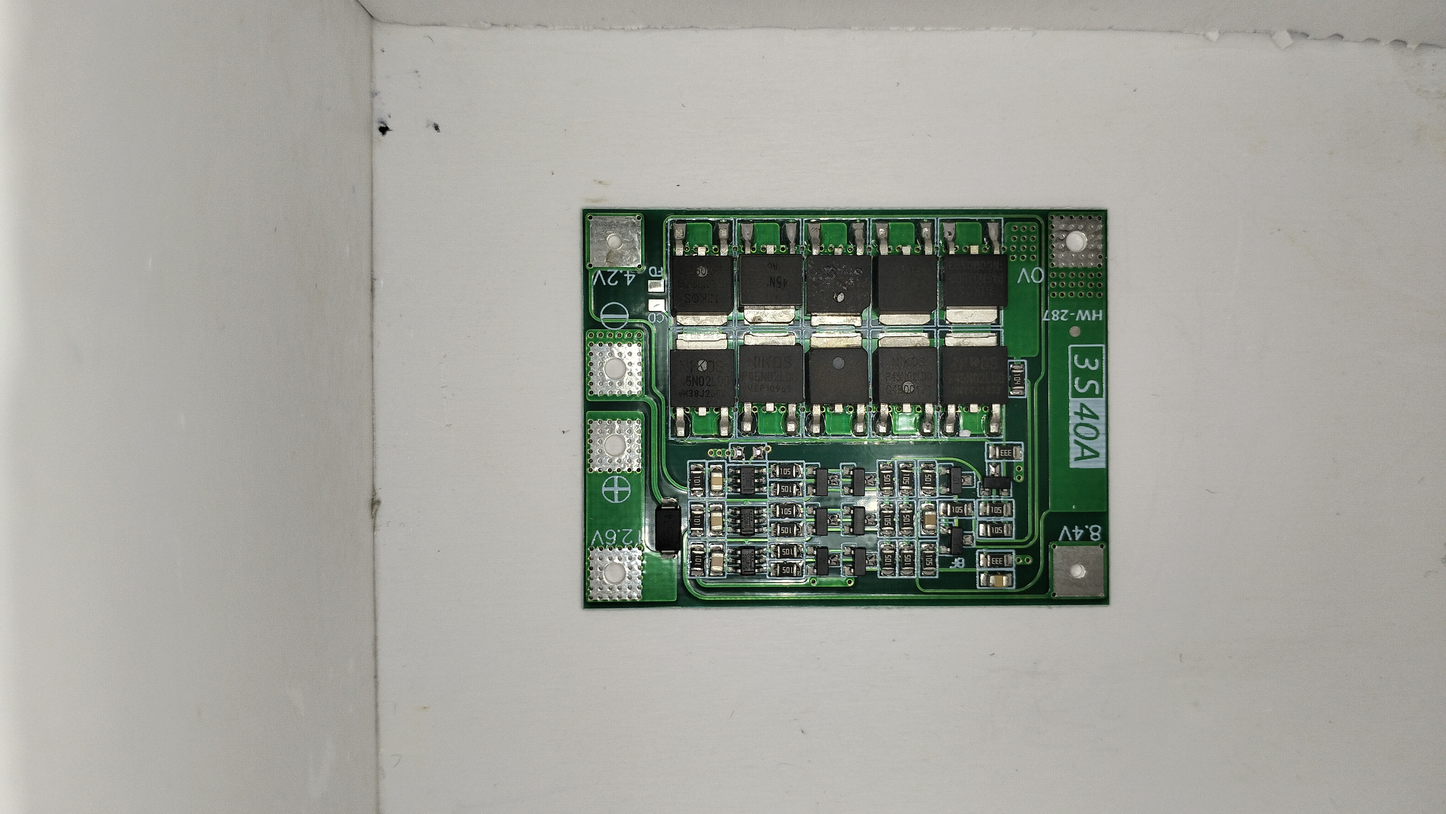C: (976, 569, 1016, 588), (707, 461, 726, 499), (919, 501, 938, 538), (708, 542, 726, 580), (708, 500, 726, 537)
R 105: (879, 542, 899, 578), (920, 541, 940, 577), (896, 541, 916, 576), (898, 501, 918, 536), (920, 461, 940, 496), (897, 461, 917, 496), (877, 461, 896, 497), (877, 501, 896, 536), (979, 522, 1013, 539), (942, 500, 976, 517), (977, 501, 1011, 518), (770, 562, 804, 579), (769, 542, 803, 559), (770, 519, 804, 536), (770, 501, 804, 518), (769, 482, 803, 499), (769, 464, 803, 481)
R EEE: (985, 440, 1024, 461), (975, 550, 1016, 568)
R101: (687, 461, 705, 499), (687, 542, 705, 580), (687, 501, 705, 538)
R104: (1010, 362, 1026, 395)
diode: (650, 497, 685, 563)
ic 1: (936, 330, 1004, 436), (740, 331, 807, 438), (870, 216, 937, 323), (668, 221, 735, 327), (672, 333, 739, 439), (805, 333, 872, 439), (869, 327, 936, 433), (938, 218, 1005, 324), (803, 220, 870, 326), (734, 220, 801, 326)
ic 2: (728, 463, 767, 500), (728, 541, 767, 578), (728, 504, 767, 541)
transitor: (977, 461, 1013, 498), (805, 547, 841, 584), (843, 542, 879, 579), (840, 502, 876, 539), (840, 461, 876, 498), (939, 460, 975, 496), (805, 461, 840, 498), (805, 503, 840, 540), (941, 522, 976, 558)
